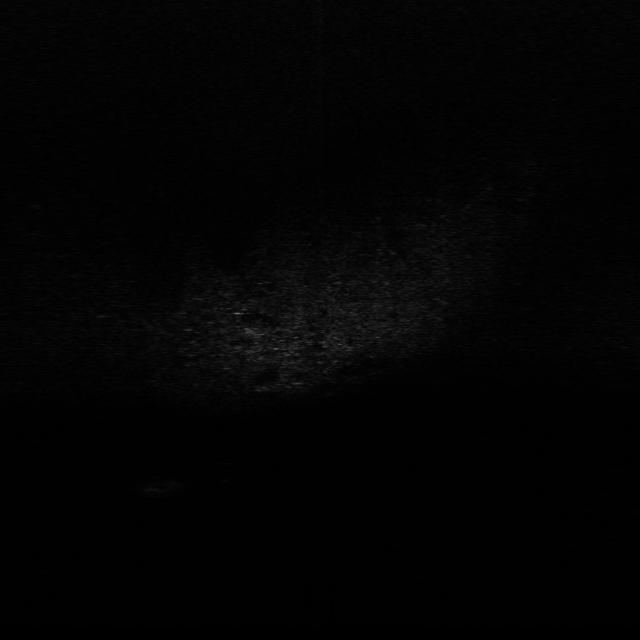ball: (206, 458, 250, 483)
circle cage: (134, 473, 188, 502)
